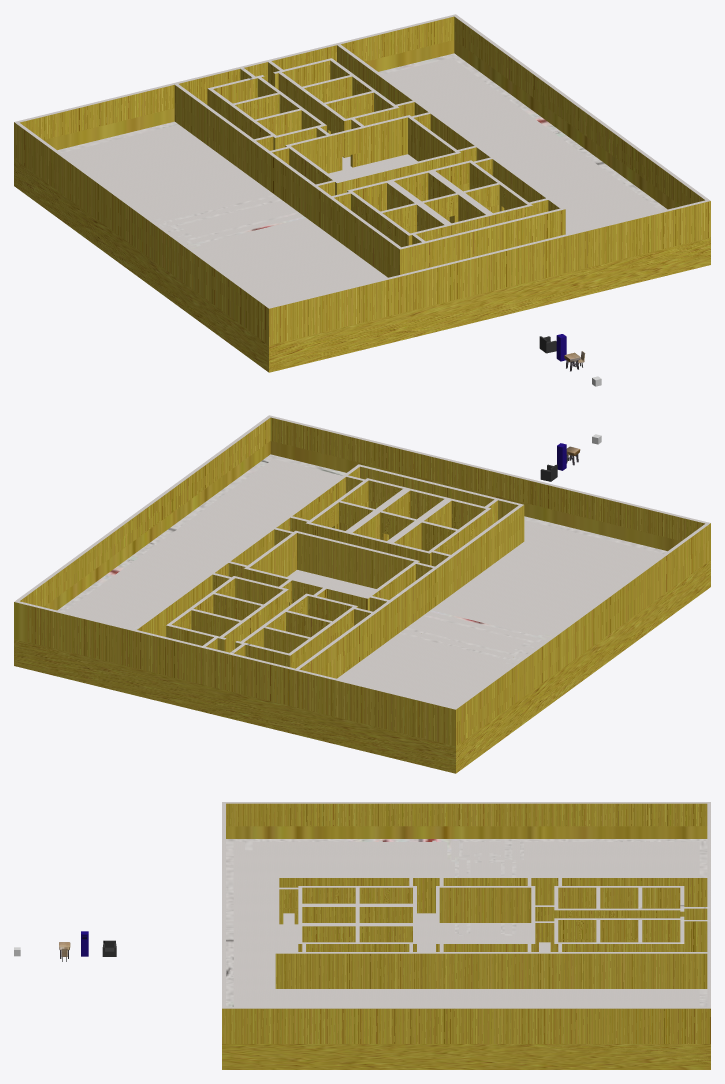
Rendered from horrorMap.fbx.
3 renders of one model, top to bottom at view 1: azimuth 30°, elevation 25°; view 2: azimuth 150°, elevation 25°; view 3: azimuth 270°, elevation 25°, orthographic. The views are drawn at different scales.
Visible parts, largest first — view 1: Map; view 2: Map; view 3: Map.
Boxes of the visible parts, <box> form: Map: <box>14,14,710,372</box>; Map: <box>14,415,710,773</box>; Map: <box>222,802,710,1069</box>.
Bounding box in the file's own units: 1256 × 174 × 1790.
